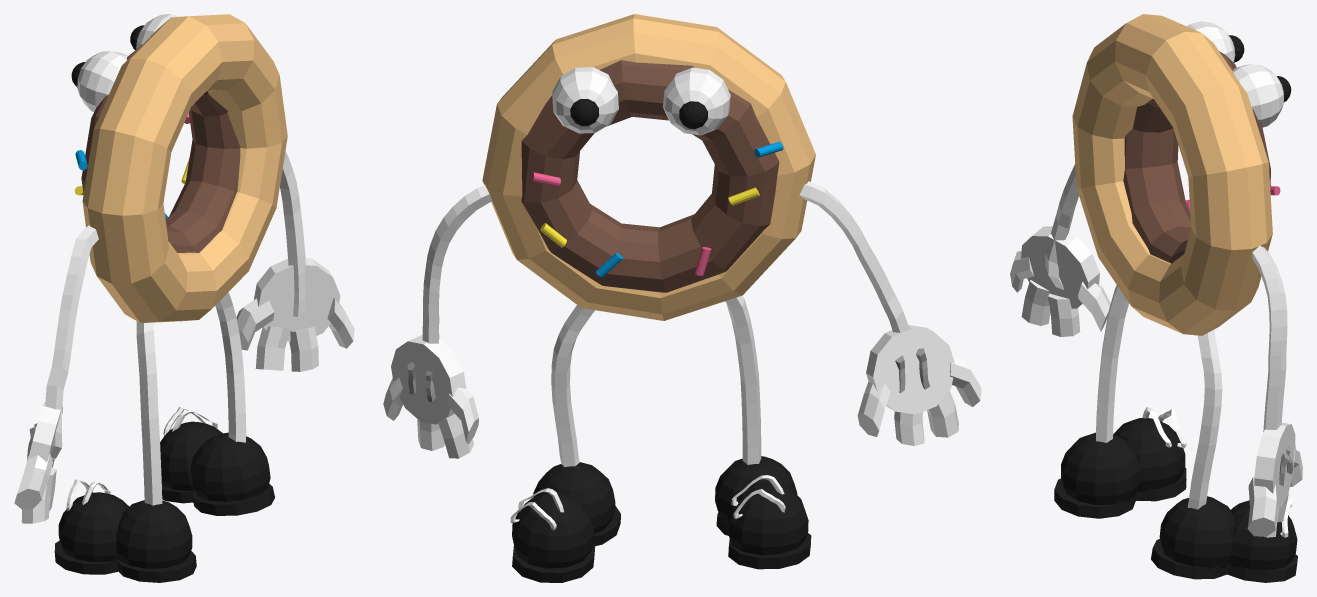
The model's file is Donut Guy by Mark Creasy - 2ACtH84CTRF.glb.
The picture shows the model from 3 angles, left to right: view 1: azimuth 30°, elevation 25°; view 2: azimuth 150°, elevation 25°; view 3: azimuth 270°, elevation 25°; orthographic projection. The views are drawn at different scales.
Parts seen in each view (by area): view 1: group714045191, group1271726261, group911610836, group1836838089, group1408855644, group861903304, group1081606240, group345421876, group1553115037, group385968394, group605939537, group506391806; view 2: group714045191, group1408855644, group911610836, group345421876, group1271726261, group1836838089, group1081606240, group1553115037, group385968394, group861903304, group605939537, group506391806; view 3: group714045191, group1271726261, group911610836, group1408855644, group345421876, group1836838089, group385968394, group1553115037, group1081606240, group506391806, group861903304, group605939537.
Boxes of the visible parts, left/top/right/bottom form: group714045191: left=82, top=14, right=287, bottom=323; group1271726261: left=54, top=479, right=196, bottom=582; group911610836: left=160, top=407, right=274, bottom=515; group1836838089: left=236, top=258, right=354, bottom=371; group1408855644: left=81, top=45, right=240, bottom=252; group861903304: left=45, top=225, right=98, bottom=459; group1081606240: left=136, top=321, right=162, bottom=505; group345421876: left=14, top=401, right=62, bottom=523; group1553115037: left=215, top=292, right=246, bottom=442; group385968394: left=280, top=151, right=305, bottom=316; group605939537: left=77, top=51, right=127, bottom=111; group506391806: left=136, top=14, right=179, bottom=49; group714045191: left=482, top=14, right=815, bottom=320; group1408855644: left=521, top=60, right=779, bottom=292; group911610836: left=510, top=462, right=620, bottom=582; group345421876: left=857, top=325, right=981, bottom=445; group1271726261: left=715, top=456, right=811, bottom=569; group1836838089: left=383, top=335, right=478, bottom=458; group1081606240: left=725, top=295, right=761, bottom=464; group1553115037: left=551, top=305, right=594, bottom=466; group385968394: left=422, top=185, right=492, bottom=343; group861903304: left=799, top=181, right=909, bottom=332; group605939537: left=663, top=67, right=730, bottom=135; group506391806: left=552, top=67, right=618, bottom=133; group714045191: left=1072, top=14, right=1272, bottom=335; group1271726261: left=1054, top=407, right=1186, bottom=518; group911610836: left=1151, top=496, right=1297, bottom=582; group1408855644: left=1123, top=51, right=1270, bottom=263; group345421876: left=1010, top=226, right=1110, bottom=336; group1836838089: left=1247, top=423, right=1302, bottom=537; group385968394: left=1252, top=245, right=1287, bottom=431; group1553115037: left=1187, top=329, right=1222, bottom=509; group1081606240: left=1096, top=285, right=1128, bottom=442; group506391806: left=1233, top=64, right=1283, bottom=127; group861903304: left=1045, top=164, right=1078, bottom=289; group605939537: left=1187, top=21, right=1235, bottom=62.
Size of the model in its own units: 0.8398 by 0.9159 by 0.4632.
